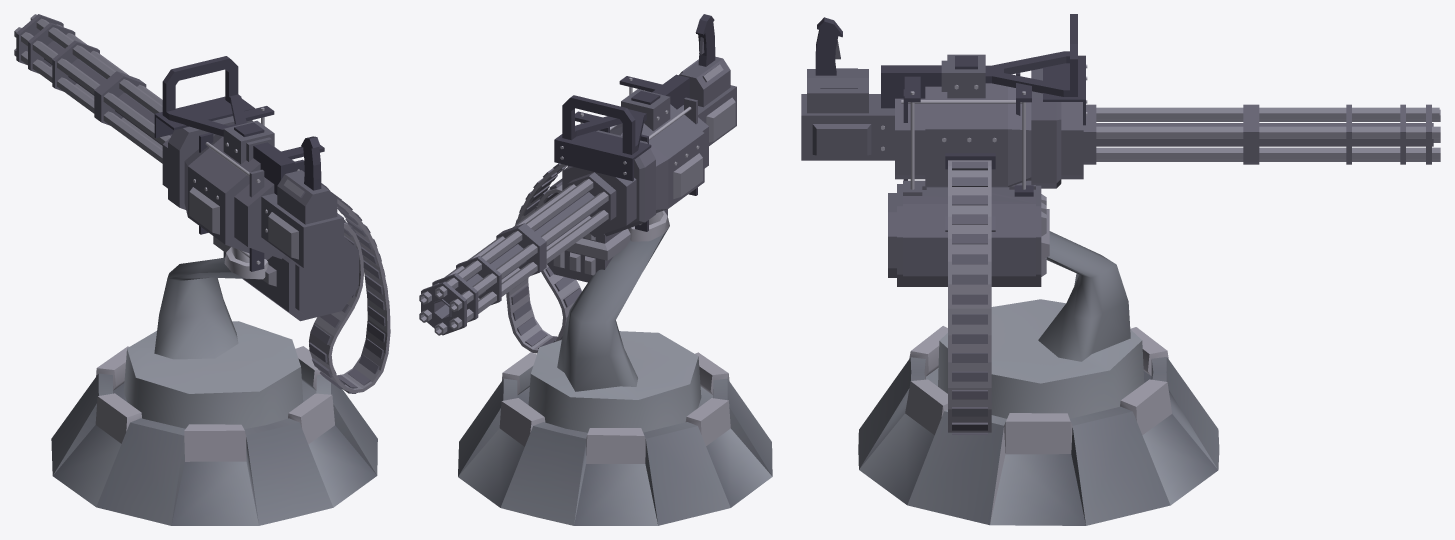
Rendered from Sci_Fi_Gun_04.fbx.
3 renders of one model, left to right at view 1: azimuth 30°, elevation 25°; view 2: azimuth 150°, elevation 25°; view 3: azimuth 270°, elevation 25°, orthographic. The views are drawn at different scales.
Parts seen in each view (by area): view 1: __PrenotatoPerDuplicare_008, polySurface226, polySurface223; view 2: __PrenotatoPerDuplicare_008, polySurface226, polySurface223; view 3: __PrenotatoPerDuplicare_008, polySurface226, polySurface223.
Part boxes in pixels (<box>): __PrenotatoPerDuplicare_008: <box>51,247,377,525</box>; polySurface226: <box>154,56,390,393</box>; polySurface223: <box>14,14,171,163</box>; __PrenotatoPerDuplicare_008: <box>458,210,772,525</box>; polySurface226: <box>506,14,736,353</box>; polySurface223: <box>419,172,616,335</box>; __PrenotatoPerDuplicare_008: <box>858,231,1219,525</box>; polySurface226: <box>801,14,1087,434</box>; polySurface223: <box>1083,104,1440,164</box>.
Size of the model in its own units: 147 by 194 by 261.
2 materials, 2 textured.
